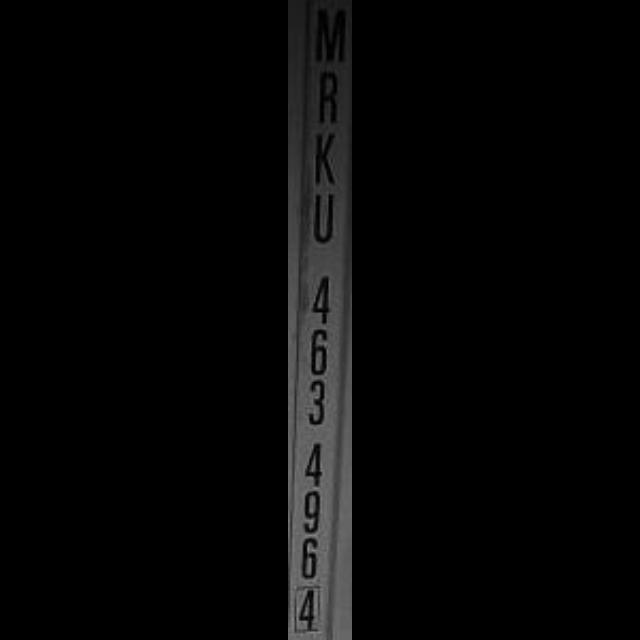3: (300, 376, 332, 432)
4: (304, 266, 342, 332), (296, 432, 332, 493), (292, 582, 326, 638)
6: (298, 324, 338, 382), (294, 532, 324, 586)
9: (296, 488, 330, 538)
k: (304, 130, 352, 190)
m: (304, 0, 352, 70)
r: (308, 69, 352, 131)
u: (304, 188, 344, 252)
